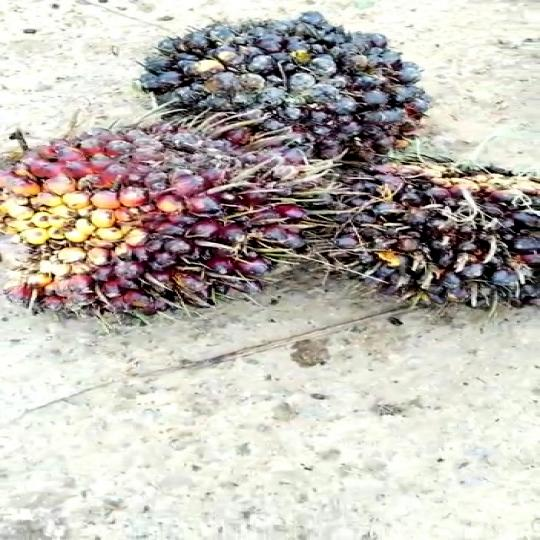kurang masak: (0, 124, 334, 322), (142, 0, 479, 184), (315, 150, 540, 319)
